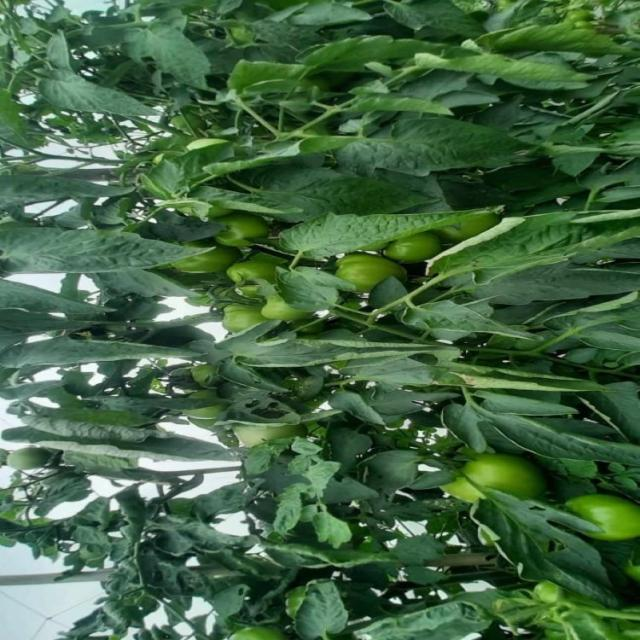tomato: (433, 435, 535, 521), (554, 485, 640, 559), (376, 217, 455, 291), (339, 236, 410, 311), (208, 249, 285, 302), (231, 409, 312, 457), (226, 217, 289, 258), (254, 282, 298, 335), (216, 299, 269, 337)
